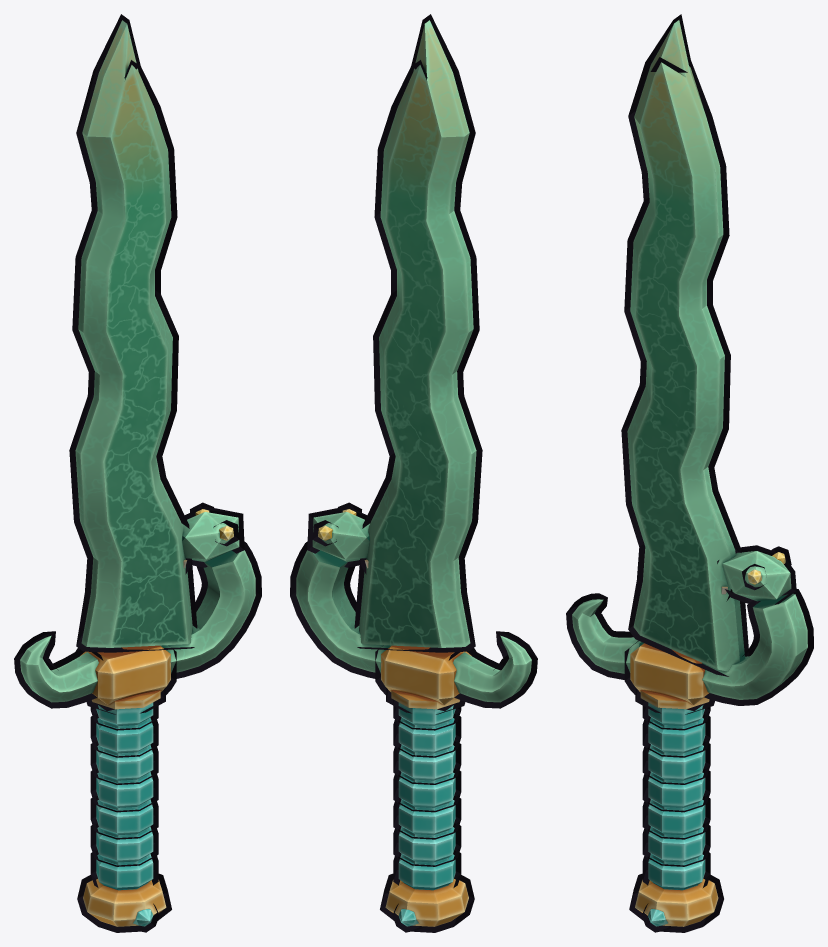
Rendered from SandSerpent.fbx.
The picture shows the model from 3 angles, left to right: view 1: azimuth 30°, elevation 25°; view 2: azimuth 150°, elevation 25°; view 3: azimuth 330°, elevation 25°; orthographic projection.
Parts seen in each view (by area): view 1: SandSerpent, SandSerpentOutline; view 2: SandSerpent, SandSerpentOutline; view 3: SandSerpent, SandSerpentOutline.
Part boxes in pixels (box(x1,y1,x2,y2)): SandSerpent: box(20, 20, 255, 926); SandSerpentOutline: box(14, 14, 261, 932); SandSerpent: box(296, 20, 531, 926); SandSerpentOutline: box(290, 14, 537, 932); SandSerpent: box(572, 20, 807, 926); SandSerpentOutline: box(566, 14, 813, 932).
Bounding box in the file's own units: 96.91 × 357 × 40.4.
Materials: 2 (1 with a texture image).
